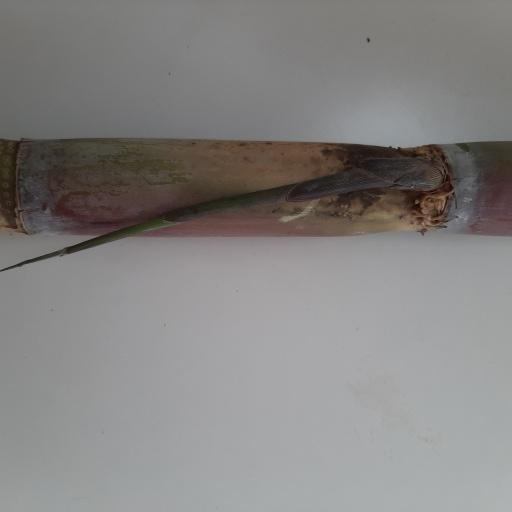Sprouted_Bud: (382, 156, 446, 190)
